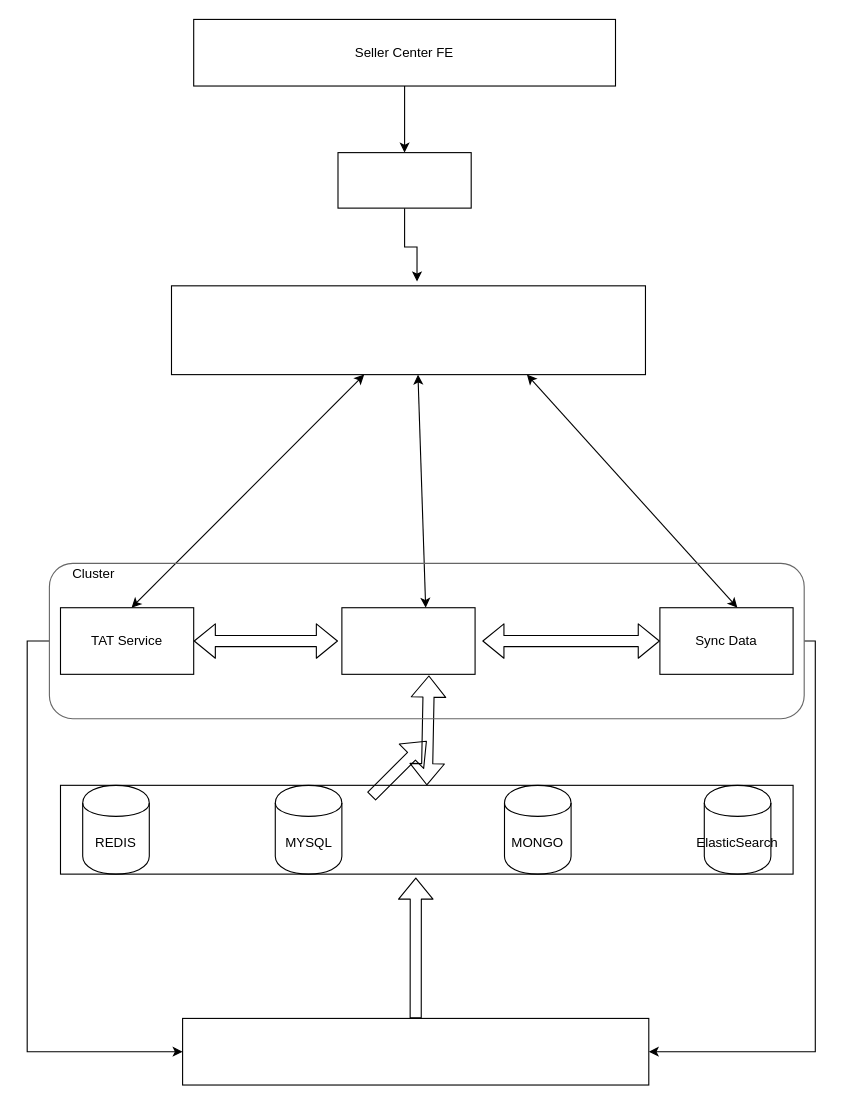
This 844x1104 diagram has some shape labels left out. Each missing label, with the centre of its shape:
"Aggregate Service - Using Kafka message Queue" belongs at pixel 415 1051.
"KONG" belongs at pixel 407 330.
"NODE Service" belongs at pixel 404 180.
"Order Service" belongs at pixel 408 640.
